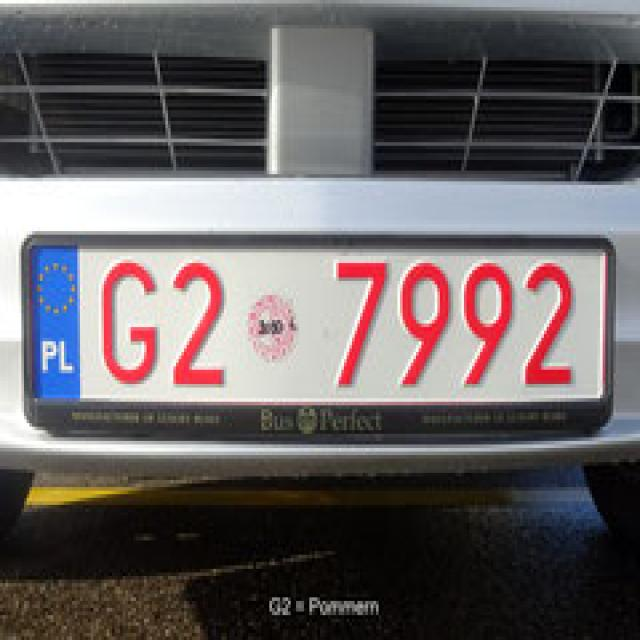pl_license_plate: (26, 245, 602, 395)
